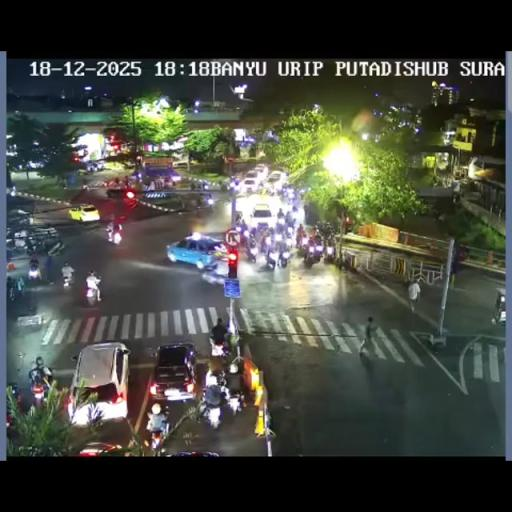Car: (68, 341, 130, 425), (149, 344, 198, 402), (166, 233, 231, 271), (141, 192, 186, 212), (138, 168, 180, 186), (75, 441, 125, 455), (250, 202, 273, 226), (69, 204, 99, 222), (6, 210, 32, 230), (491, 288, 505, 325), (106, 182, 136, 198), (238, 176, 260, 194), (266, 170, 286, 188), (86, 160, 106, 173), (253, 163, 268, 179)
Motorcycle: (239, 219, 300, 268), (29, 369, 52, 406), (147, 422, 168, 454), (204, 366, 228, 392), (202, 401, 223, 429), (225, 385, 243, 416), (84, 278, 102, 306), (303, 240, 322, 266), (314, 219, 336, 238), (210, 336, 228, 358), (46, 238, 65, 256), (60, 270, 74, 293), (6, 382, 20, 404), (323, 240, 336, 262), (247, 236, 258, 261), (266, 248, 278, 270), (278, 246, 290, 268), (28, 264, 42, 282), (6, 280, 17, 302), (263, 410, 274, 432), (106, 229, 121, 245), (25, 236, 37, 256), (279, 198, 292, 216), (16, 275, 26, 298), (260, 234, 271, 252), (283, 188, 296, 202), (276, 216, 286, 234), (285, 214, 295, 232), (284, 229, 294, 244), (234, 210, 244, 224), (295, 233, 304, 248), (240, 227, 250, 240), (228, 180, 238, 193), (194, 202, 202, 218), (29, 252, 38, 266), (267, 185, 276, 196), (206, 194, 214, 205), (135, 172, 143, 183), (298, 189, 306, 200), (292, 204, 298, 218), (202, 180, 210, 190), (123, 179, 131, 188), (260, 186, 267, 195), (82, 181, 88, 191), (235, 225, 242, 233), (102, 179, 108, 188), (190, 182, 196, 190)
